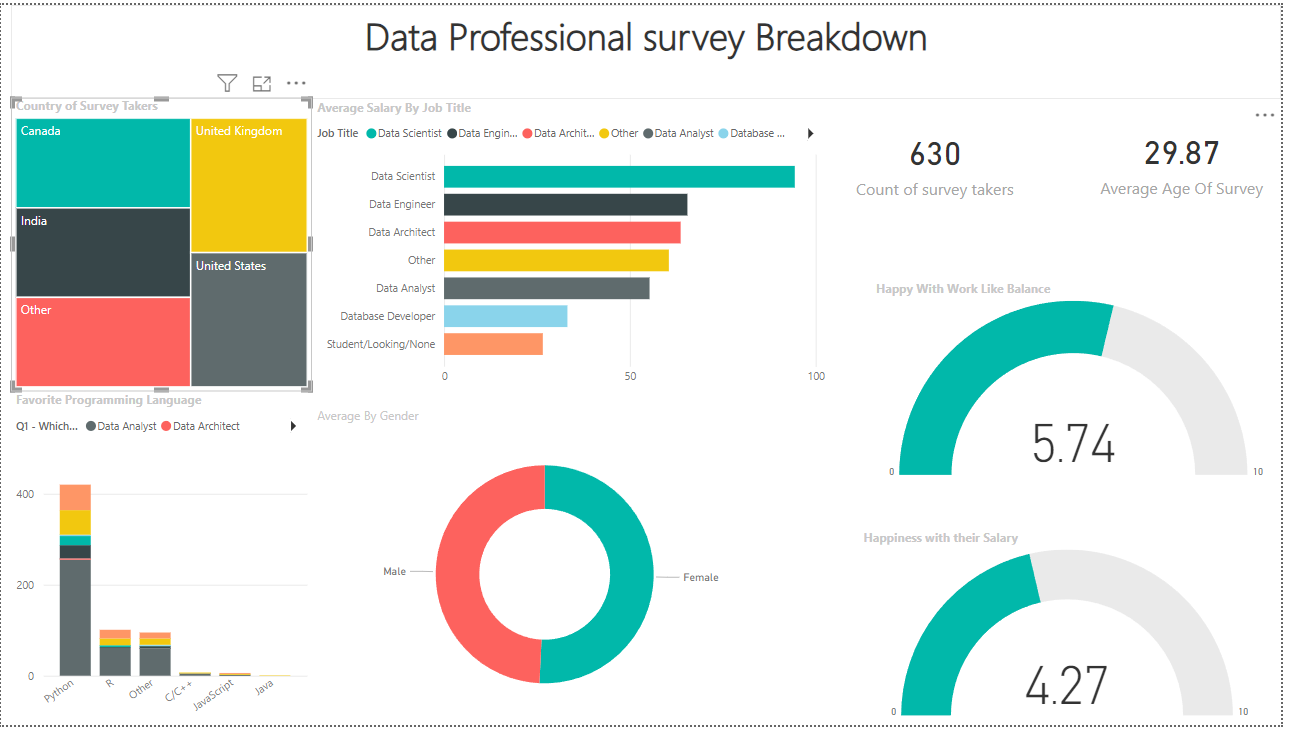

The page's visual inventory and layout, read from the dashboard file:
{"tool":"powerbi","page":{"name":"Page 1","canvas":[1280,720],"ordinal":0},"visuals":[{"type":"textbox","box":[9.6,0,1270.7,93.3],"z":0},{"type":"card","fields":{"Values":["CountNonNull(Sheet1.Unique ID)"]},"box":[828.7,95,210.6,123.9],"z":1000},{"type":"card","fields":{"Values":["Avg(Sheet1.Q10 - Current Age)"]},"box":[1081.3,93.3,199,124.9],"z":2000},{"type":"barChart","title":"Average Salary By Job Title ","fields":{"Category":["Sheet1.Q1 - Which Title Best Fits your Current Role?.1"],"Y":["Avg(Sheet1.Average Salary)"],"Series":["Sheet1.Q1 - Which Title Best Fits your Current Role?.1"]},"box":[311.1,93.6,517.6,294.6],"z":3000},{"type":"columnChart","title":"Favorite Programming Language","fields":{"Category":["Sheet1.Q5 - Favorite Programming Language.1"],"Y":["CountNonNull(Sheet1.Unique ID)"],"Series":["Sheet1.Q1 - Which Title Best Fits your Current Role?.1"]},"box":[9.6,386.8,301.5,333.1],"z":4000},{"type":"treemap","title":"Country of Survey Takers","fields":{"Group":["Sheet1.Q11 - Which Country do you live in?.1"],"Values":["Count(Sheet1.Q11 - Which Country do you live in?.1)"]},"box":[9.6,92.2,301.5,294.6],"z":5000},{"type":"gauge","title":"Happiness with Work life Balance","fields":{"Y":["Avg(Sheet1.Q6 - How Happy are you in your Current Position with the following? (Salary))"],"MinValue":["Min(Sheet1.Q6 - How Happy are you in your Current Position with the following? (Salary))1"],"MaxValue":["Max(Sheet1.Q6 - How Happy are you in your Current Position with the following? (Salary))"]},"box":[857.6,523.1,422.6,196.9],"z":6000},{"type":"gauge","title":"Happy With Work Like Balance","fields":{"Y":["Avg(Sheet1.Q6 - How Happy are you in your Current Position with the following? (Work/Life Balance))"],"MinValue":["Min(Sheet1.Q6 - How Happy are you in your Current Position with the following? (Work/Life Balance))"],"MaxValue":["Max(Sheet1.Q6 - How Happy are you in your Current Position with the following? (Work/Life Balance))1"]},"box":[870,275.3,410.2,205.1],"z":7000},{"type":"donutChart","title":"Average By Gender","fields":{"Category":["Sheet1.Q9 - Male/Female?"],"Y":["Avg(Sheet1.Average Salary)"]},"box":[311.1,402,465.3,318],"z":8000}]}

Visuals, with their boxes in screenshot pixels (x1, y1, x2, y2), scaled from the page's 1280x720 canvas onto the 1297x737 screenshot:
textbox: 10,0,1296,96
card - CountNonNull(Sheet1.Unique ID): 840,97,1053,224
card - Avg(Sheet1.Q10 - Current Age): 1096,96,1296,223
"Average Salary By Job Title " barChart: 315,96,840,397
"Favorite Programming Language" columnChart: 10,396,315,736
"Country of Survey Takers" treemap: 10,94,315,396
"Happiness with Work life Balance" gauge: 869,535,1296,736
"Happy With Work Like Balance" gauge: 882,282,1296,492
"Average By Gender" donutChart: 315,411,787,736
